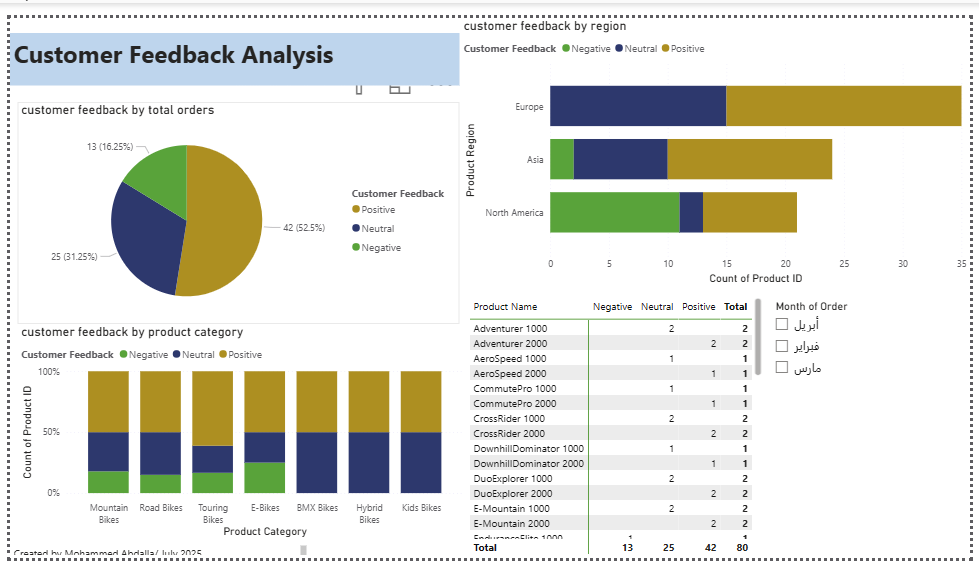

This screenshot's page, from the dashboard's own definition file:
{"tool":"powerbi","page":{"name":"Customer Feedback","canvas":[1280,720],"ordinal":3},"visuals":[{"type":"pieChart","title":"customer feedback by total orders","fields":{"Category":["Sales (2).Customer Feedback"],"Y":["CountNonNull(Sales (2).Product ID)"]},"box":[9.4,111.5,589.6,296.7],"z":0},{"type":"hundredPercentStackedColumnChart","title":"customer feedback by product category","fields":{"Category":["Sales (2).Product Category"],"Series":["Sales (2).Customer Feedback"],"Y":["CountNonNull(Sales (2).Product ID)"]},"box":[9.4,408.2,599.1,289.1],"z":1},{"type":"barChart","title":"customer feedback by region","fields":{"Category":["Sales (2).Product Region"],"Y":["CountNonNull(Sales (2).Product ID)"],"Series":["Sales (2).Customer Feedback"]},"box":[599.1,0,680.3,359.1],"z":2},{"type":"pivotTable","fields":{"Rows":["Sales (2).Product Name"],"Columns":["Sales (2).Customer Feedback"],"Values":["CountNonNull(Sales (2).Product ID)"]},"box":[608.5,368.5,398.7,351.5],"z":3},{"type":"slicer","fields":{"Values":["Sales (2).Month of Order"]},"box":[1008,369,271,351],"z":4},{"type":"textbox","box":[0,20.8,599.1,69.9],"z":5},{"type":"textbox","box":[0,697.3,400.6,22.7],"z":6}]}

Visuals, with their boxes on the page's 1280x720 design canvas (x1, y1, x2, y2). These are canvas units, not pixel positions in the 979x571 screenshot, which may show the page scaled, cropped or inside an application window:
"customer feedback by total orders" pieChart: 9/112/599/408
"customer feedback by product category" hundredPercentStackedColumnChart: 9/408/608/697
"customer feedback by region" barChart: 599/0/1279/359
pivotTable - Sales (2).Product Name x Sales (2).Customer Feedback: 608/368/1007/720
slicer - Sales (2).Month of Order: 1008/369/1279/720
textbox: 0/21/599/91
textbox: 0/697/401/720
